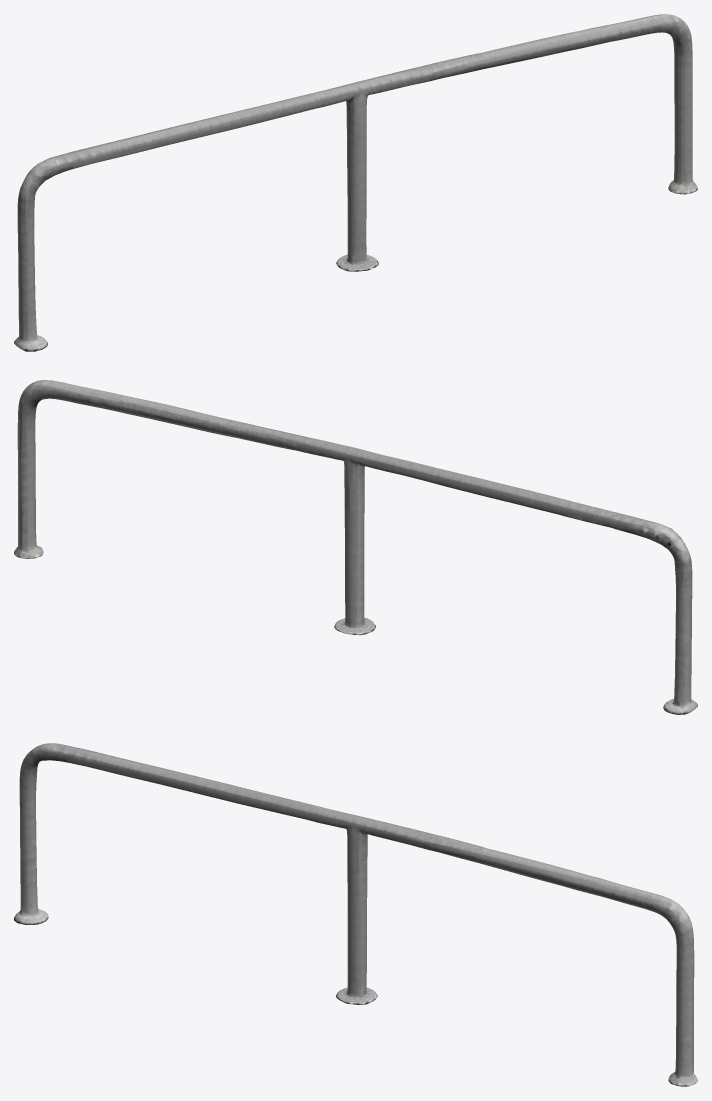
Rendered from rail-skate-01.glb.
The picture shows the model from 3 angles, top to bottom: view 1: azimuth 30°, elevation 25°; view 2: azimuth 150°, elevation 25°; view 3: azimuth 330°, elevation 25°; orthographic projection.
Visible parts, largest first — view 1: park01; view 2: park01; view 3: park01.
Part boxes in pixels (x1,y1,x2,y2): park01: [14, 14, 697, 351]; park01: [14, 380, 697, 714]; park01: [14, 743, 697, 1086].
Size of the model in its own units: 3.84 by 1 by 0.2004.
Materials: 1 (1 with a texture image).
